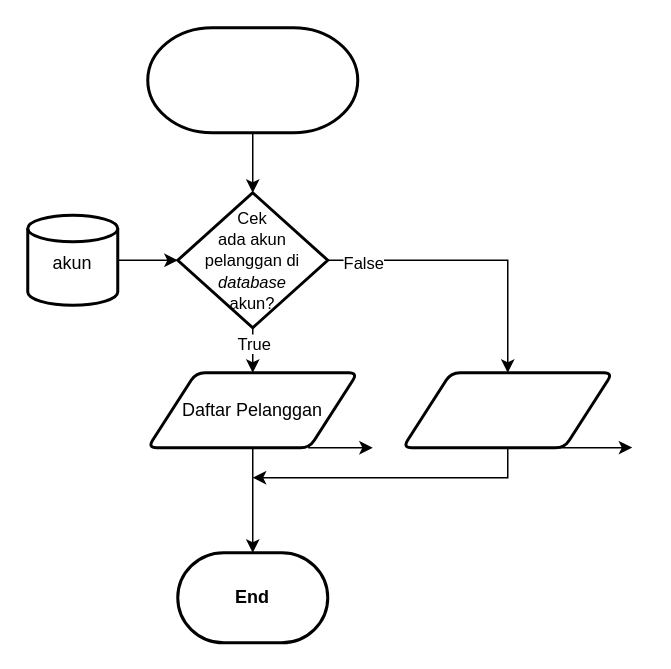
The diagram is 671 pixels wide and 669 high, and some of its shapes have lost their labels. Here are the shapes that lost their labels. From the top down, the box of each, then its label:
(146, 26, 358, 134): lihatDaftarPelanggan
(400, 370, 614, 448): "Belum ada pelanggan yang terdaftar!"
